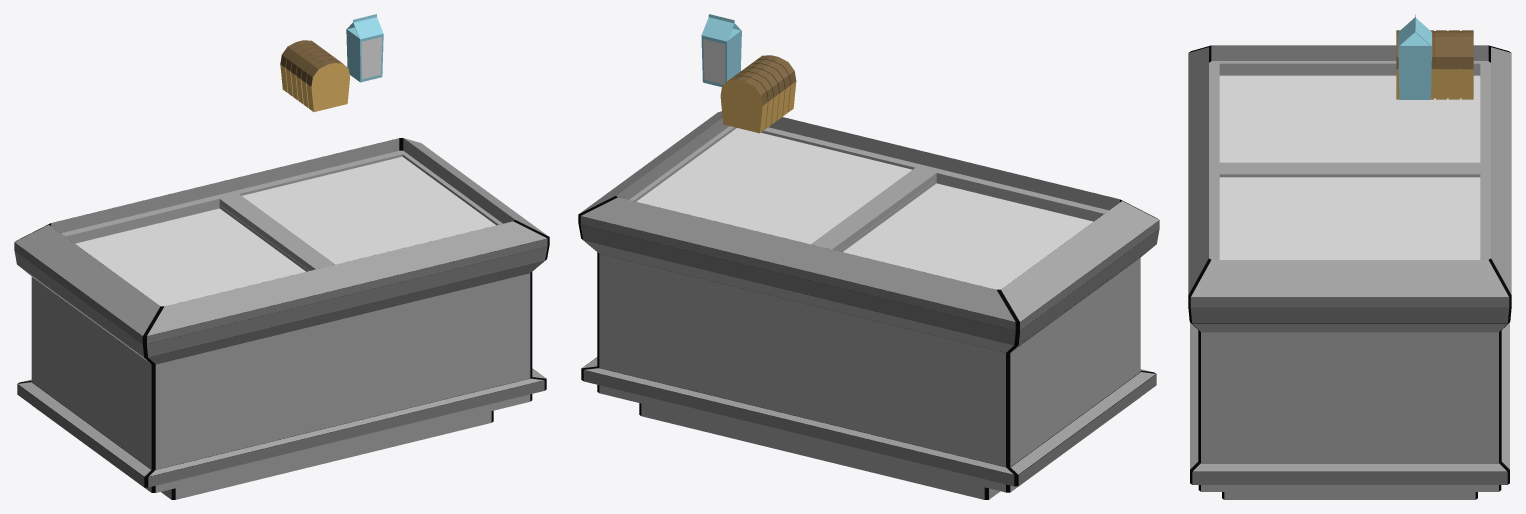
Rendered from Fridge.fbx.
3 views of the same model, side by side, from view 1: azimuth 30°, elevation 25°; view 2: azimuth 150°, elevation 25°; view 3: azimuth 270°, elevation 25° (orthographic). The views are drawn at different scales.
Visible parts, largest first — view 1: Cube.002, Cube.003, Cube.004, Cube.001, Cube.015, Cube.017; view 2: Cube.002, Cube.003, Cube.004, Cube.001, Cube.015, Cube.017; view 3: Cube.002, Cube.003, Cube.004, Cube.001, Cube.015, Cube.017.
Boxes of the visible parts, x1,y1,x2,y2 form: Cube.002: (14,138,549,499); Cube.003: (242,156,495,264); Cube.004: (75,208,305,306); Cube.001: (61,150,502,271); Cube.015: (280,40,349,111); Cube.017: (346,14,383,82); Cube.002: (578,111,1159,499); Cube.003: (636,128,912,244); Cube.004: (843,183,1093,289); Cube.001: (629,126,1108,251); Cube.015: (720,55,796,133); Cube.017: (701,14,741,86); Cube.002: (1188,45,1511,499); Cube.003: (1219,177,1480,259); Cube.004: (1219,75,1480,162); Cube.001: (1209,61,1490,259); Cube.015: (1396,30,1473,99); Cube.017: (1398,14,1431,99).
Bounding box in the file's own units: 385 × 326 × 214.
